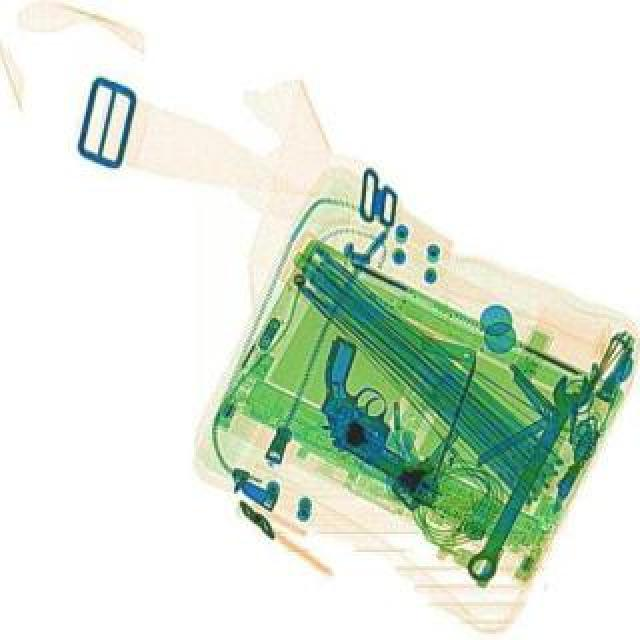gun: (282, 328, 490, 504)
scissors: (456, 366, 600, 588)
